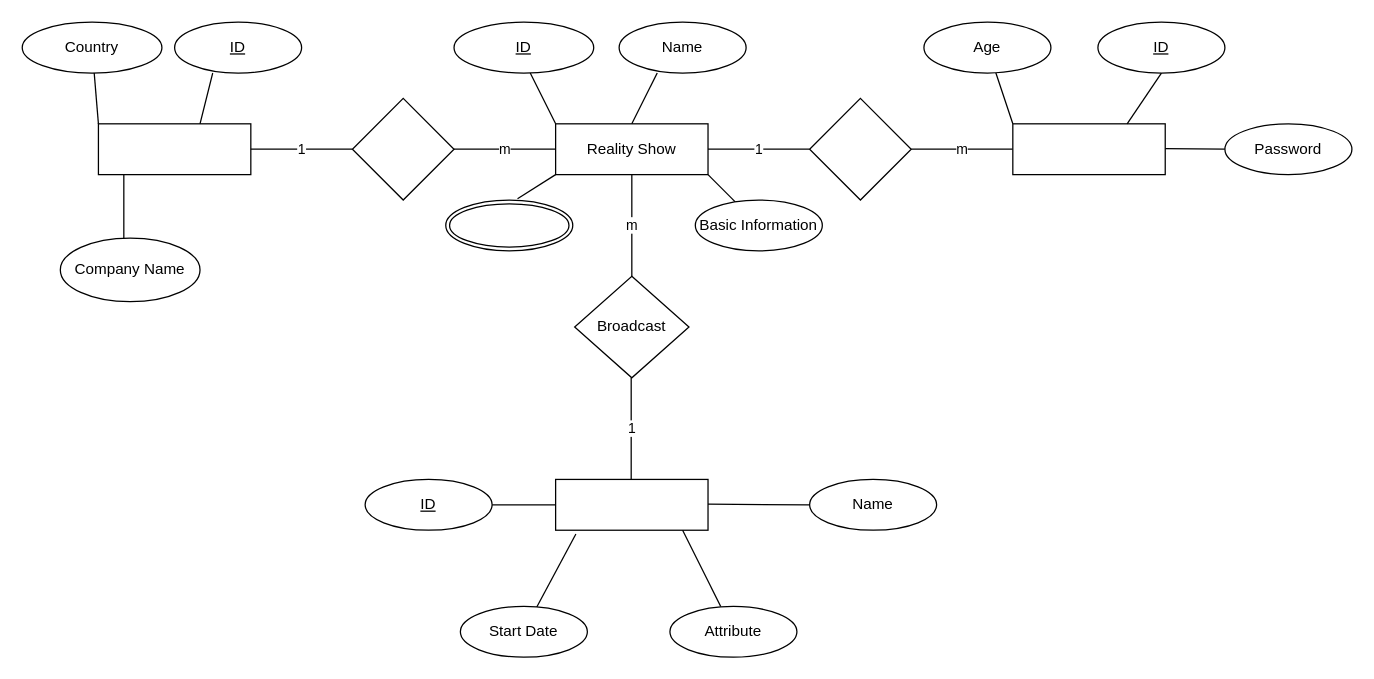
Image size: 1374x679. Some labels were removed from this diagram. The shapes that lost their labels are listed below. From the top down, each one's centre as x and y in pixels, then its label:
the point at 174,149: Producer
the point at 402,148: Produce
the point at 859,148: Rate
the point at 1088,149: User
the point at 508,225: Participent
the point at 631,504: TV Chanel
